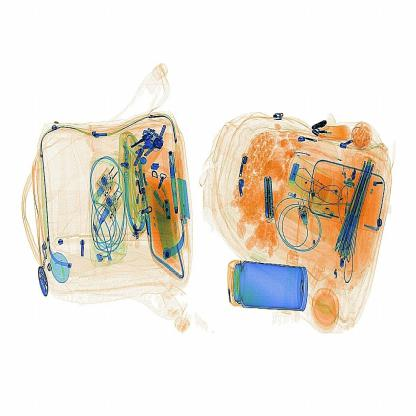scissors: (256, 169, 283, 226)
